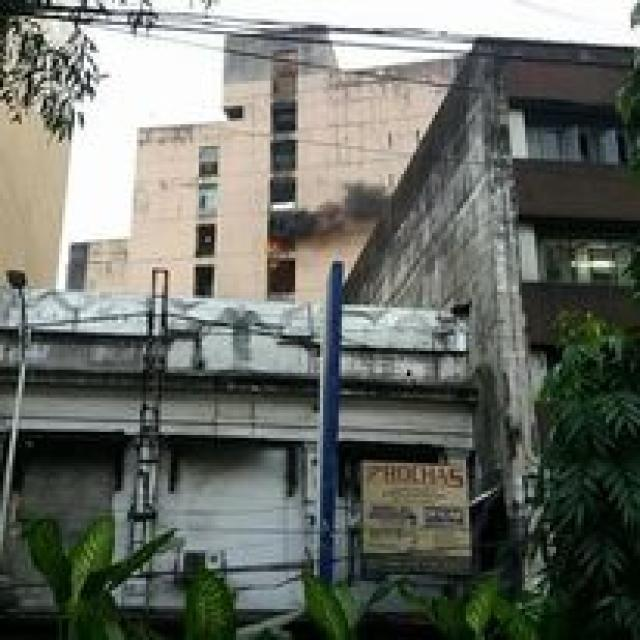Fire: (267, 235, 280, 250)
Smoke: (266, 180, 404, 248)
